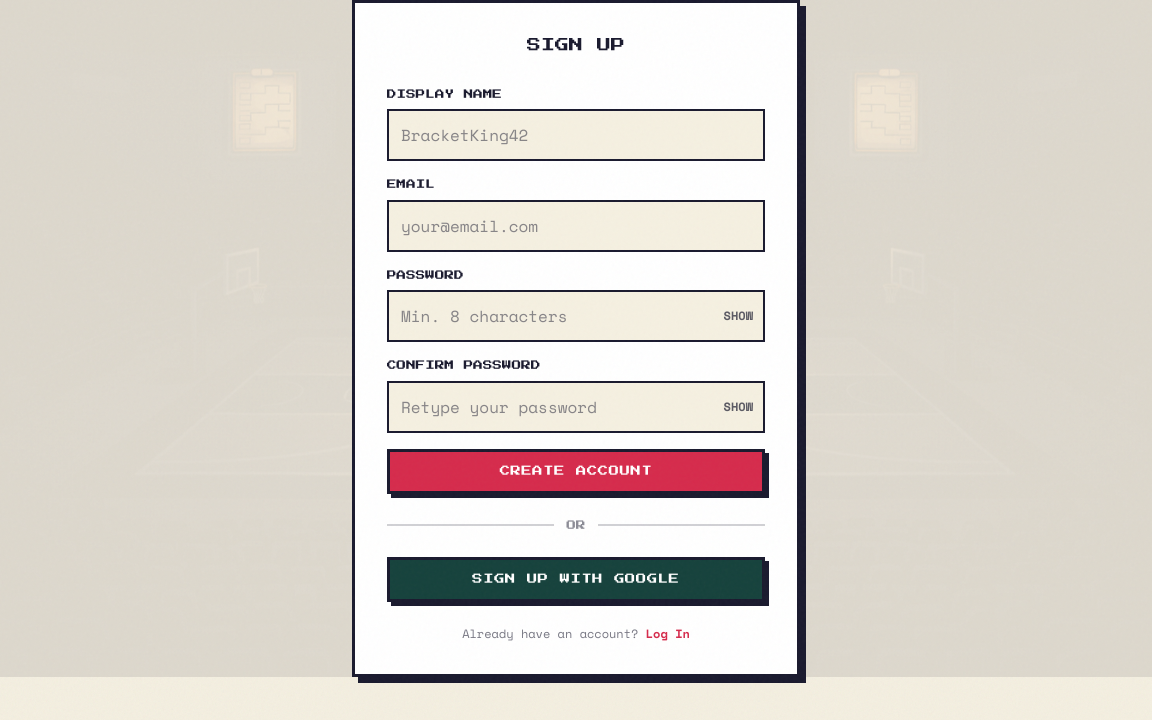
Test case: SignupForm › renders a mismatch in a role=alert box without signing up
Type "TestUser" into the field with placeholder "BracketKing42" at (576, 135), box [387, 109, 765, 161]
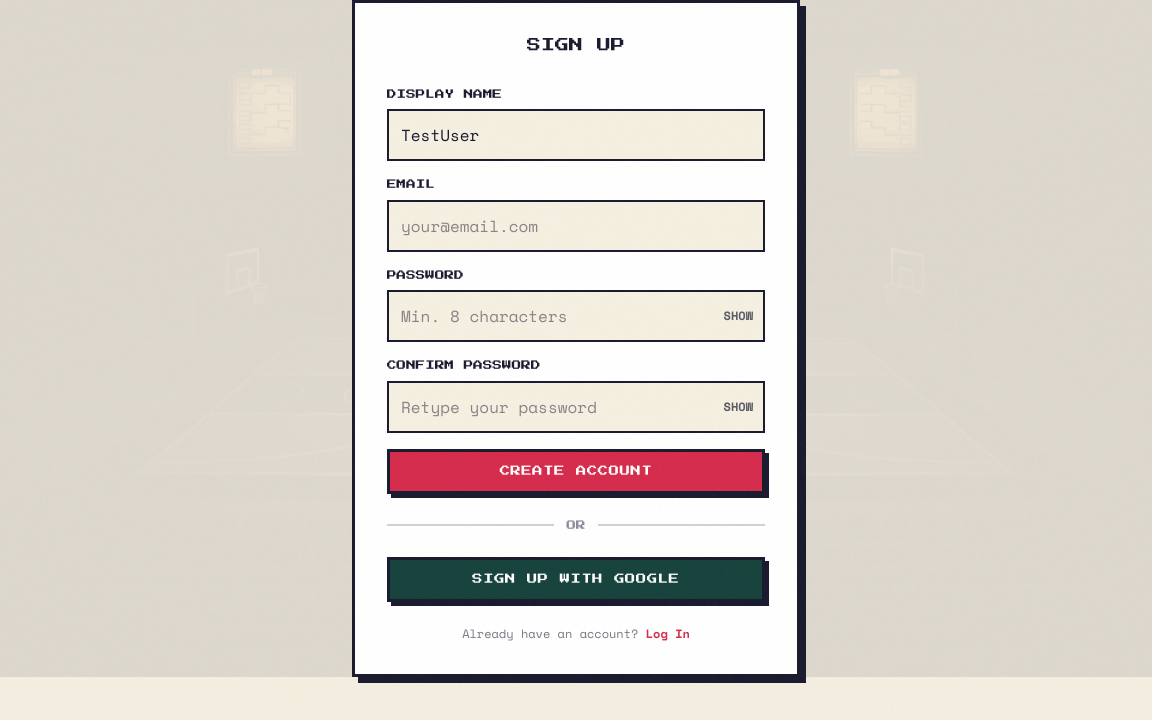
Type "test@example.com" into the field with placeholder "your@email.com" at (576, 226), box [387, 200, 765, 252]
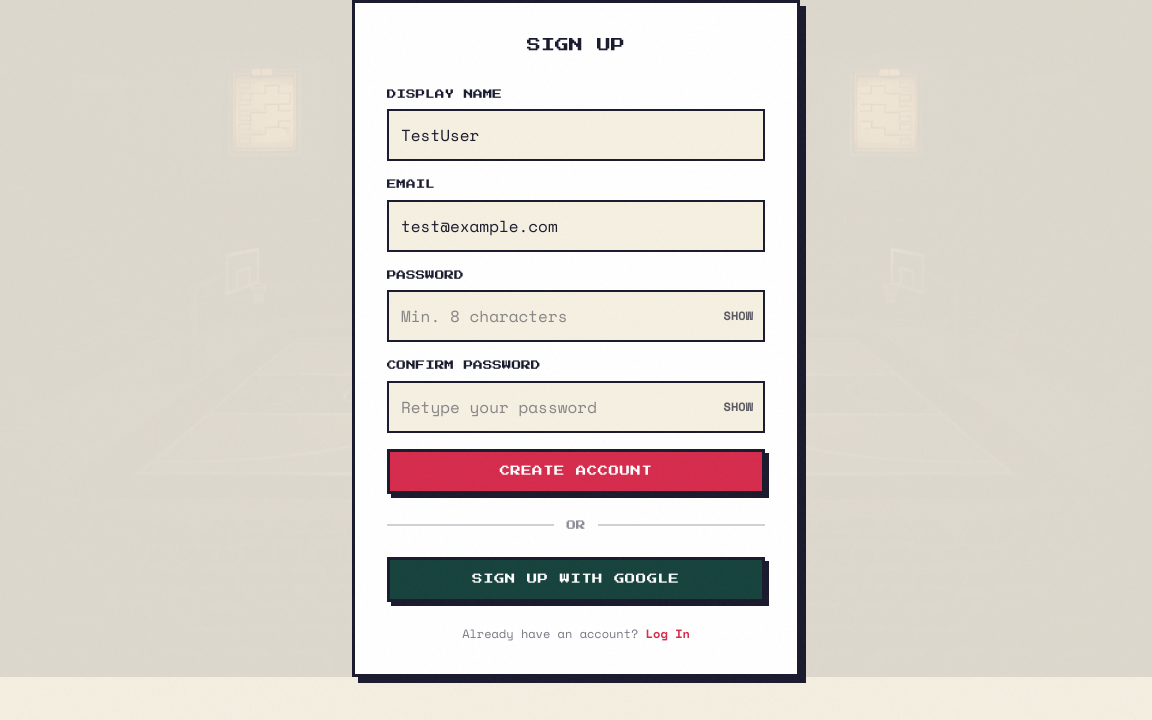
Type "abcdefgh" into the password field with placeholder "Min. 8 characters" at (576, 316), box [387, 290, 765, 342]
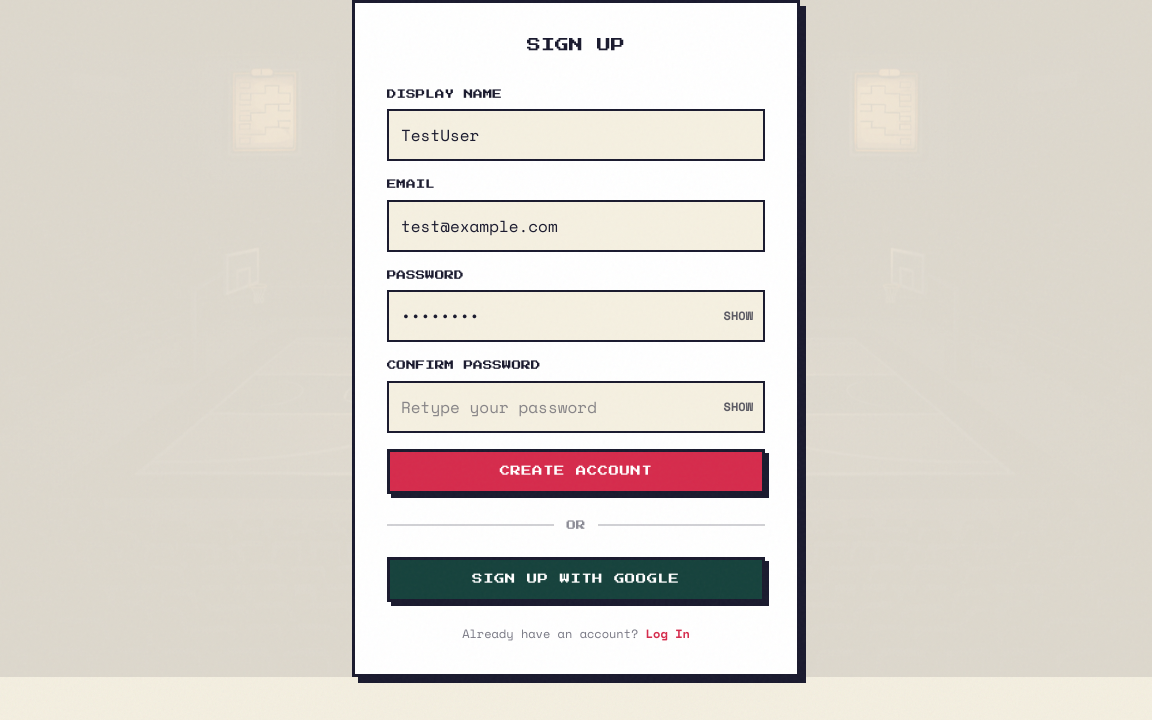
Type "abcdefgi" into the password field with placeholder "Retype your password" at (576, 407), box [387, 381, 765, 433]
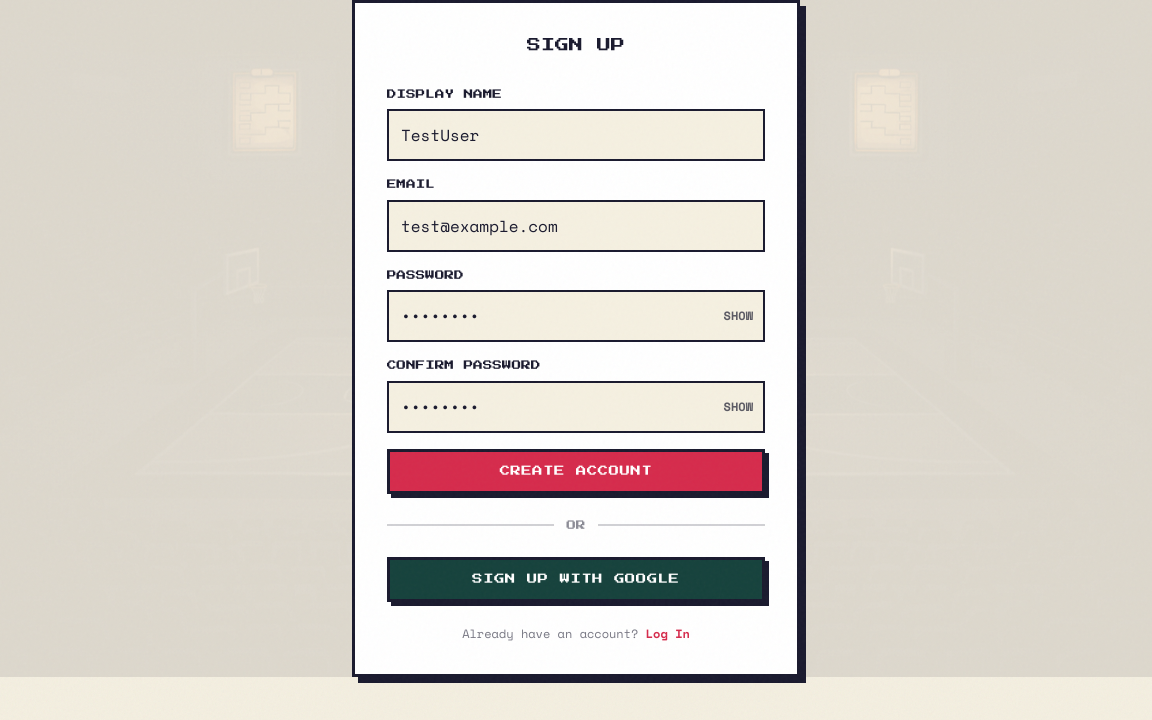
Click the button "Create Account" at (576, 471), box [387, 449, 765, 494]
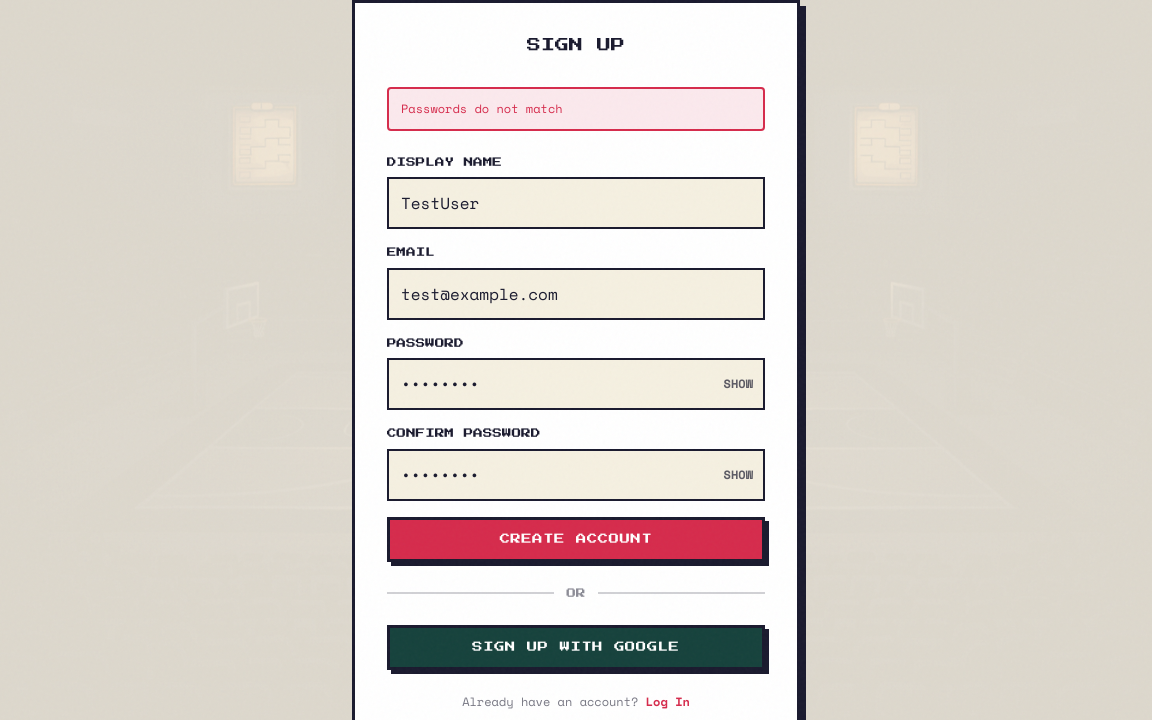
Check: the message reads "Passwords do not match", box [401, 100, 563, 117]
